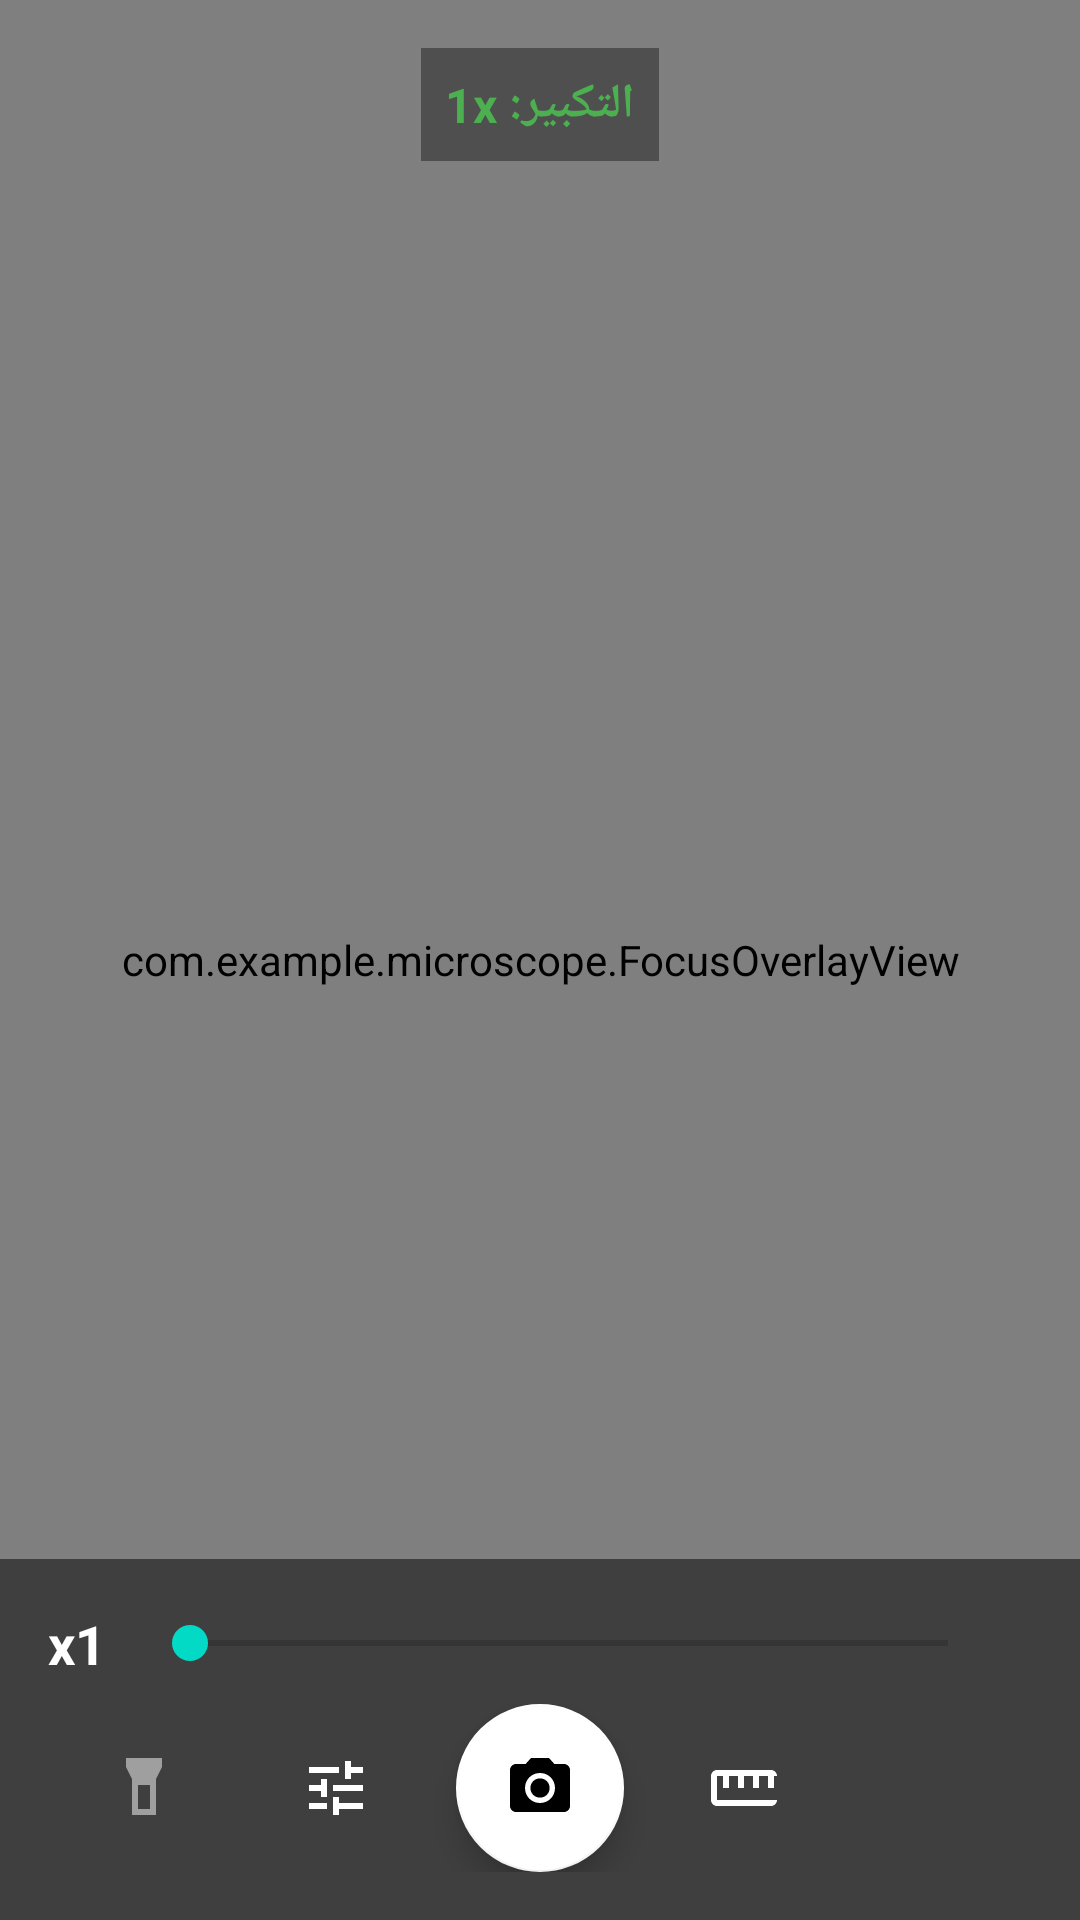

Icon click points for this 1080w x 1920h phone screenshot, format (x,y):
التقاط: (540,1788)
الفلاتر: (336,1788)
الفلاش: (144,1786)
القياس: (744,1788)
